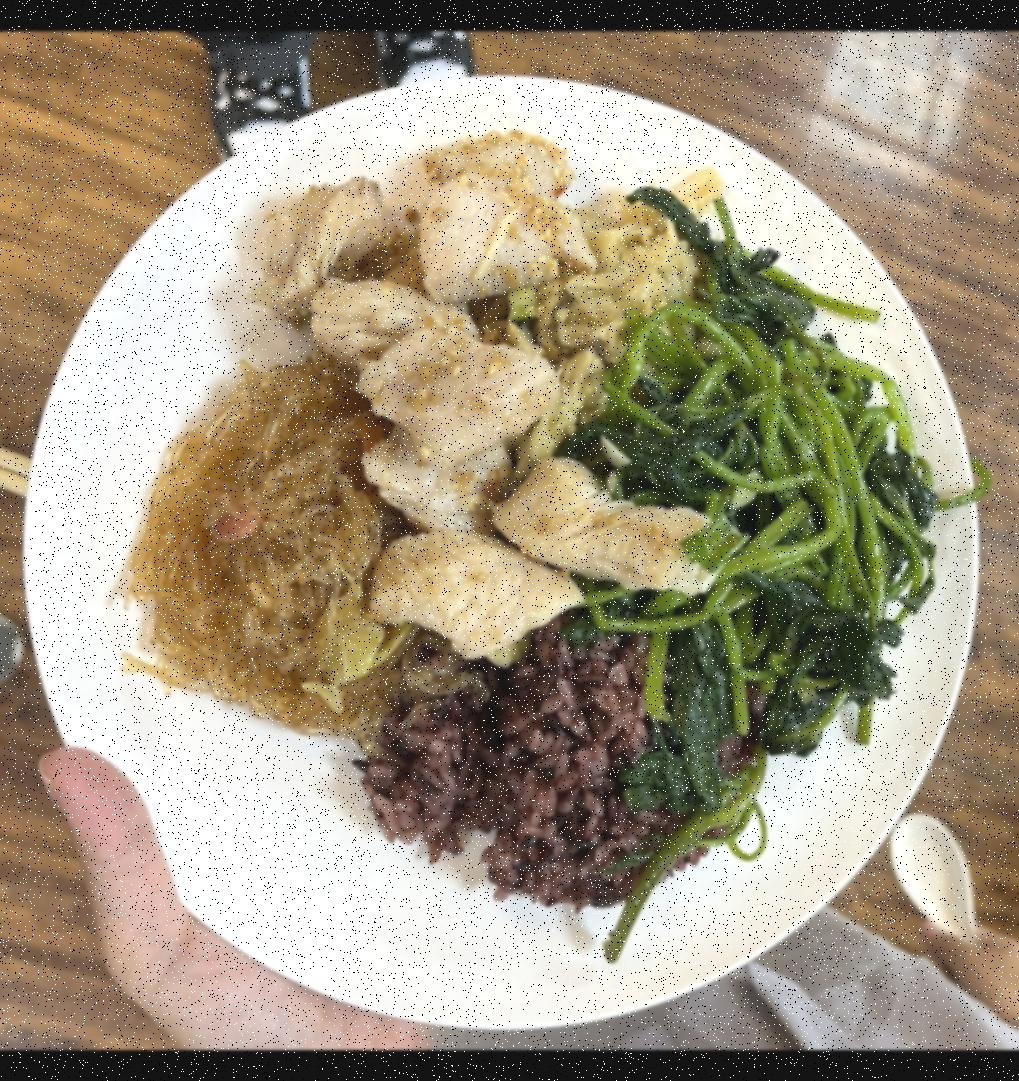plate: (20, 74, 997, 1036)
purple rice: (370, 624, 757, 894)
scallion chicken: (260, 125, 732, 646)
side dish: (657, 188, 951, 859), (127, 378, 434, 736)
